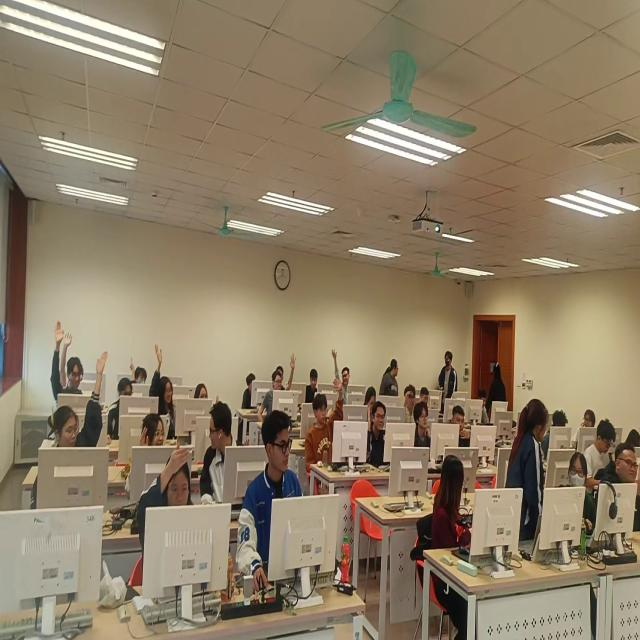raise_hand: (32, 347, 113, 511), (139, 442, 195, 562), (304, 376, 346, 482), (125, 414, 166, 503), (260, 352, 299, 428), (51, 317, 85, 404), (150, 343, 177, 419), (366, 399, 389, 470), (332, 344, 351, 390), (129, 352, 149, 387), (403, 381, 418, 426), (62, 330, 72, 389)
raise_head: (598, 442, 640, 533), (565, 447, 596, 541), (414, 402, 434, 453), (194, 377, 210, 403)
stand: (503, 395, 551, 543), (439, 347, 460, 408), (489, 361, 508, 420), (380, 352, 402, 401)
using_computer: (236, 409, 305, 598), (585, 420, 615, 487), (108, 376, 134, 443), (543, 406, 572, 459), (449, 404, 473, 453), (242, 371, 257, 414), (477, 388, 492, 424), (364, 383, 378, 412), (422, 385, 432, 408)
